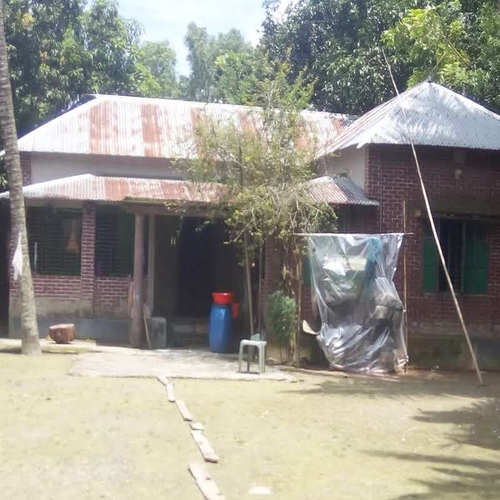Tin-shade House: (12, 80, 492, 352)
